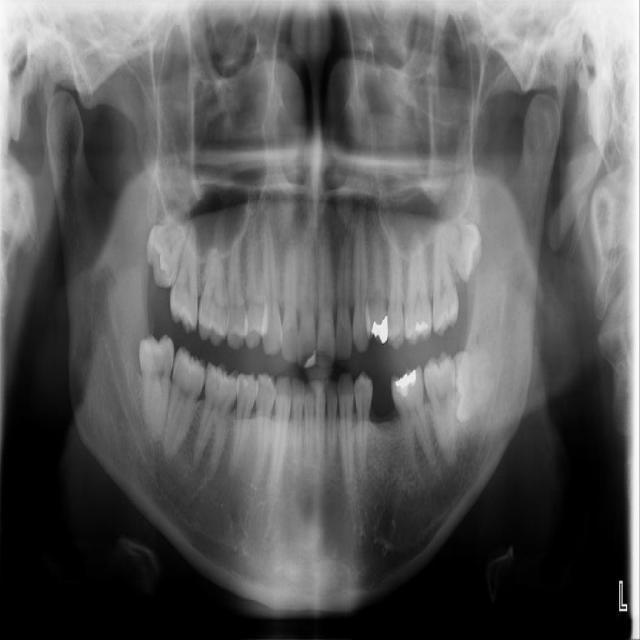Filling: (392, 362, 420, 400), (369, 312, 390, 346), (407, 318, 430, 343), (300, 349, 318, 368)
Missing teeth: (368, 379, 401, 423)
impacted tooth: (147, 202, 192, 288), (456, 351, 503, 422), (443, 197, 481, 280), (141, 336, 171, 439)
